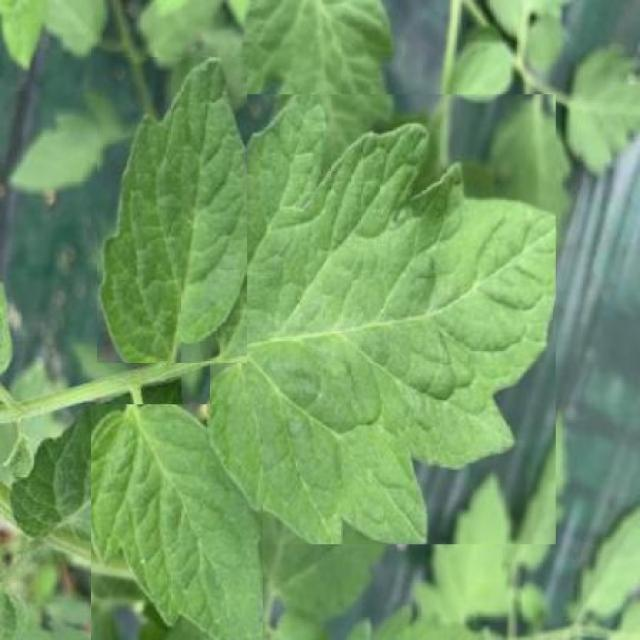Healthy: (210, 94, 556, 544), (97, 57, 247, 363), (90, 404, 263, 640)
